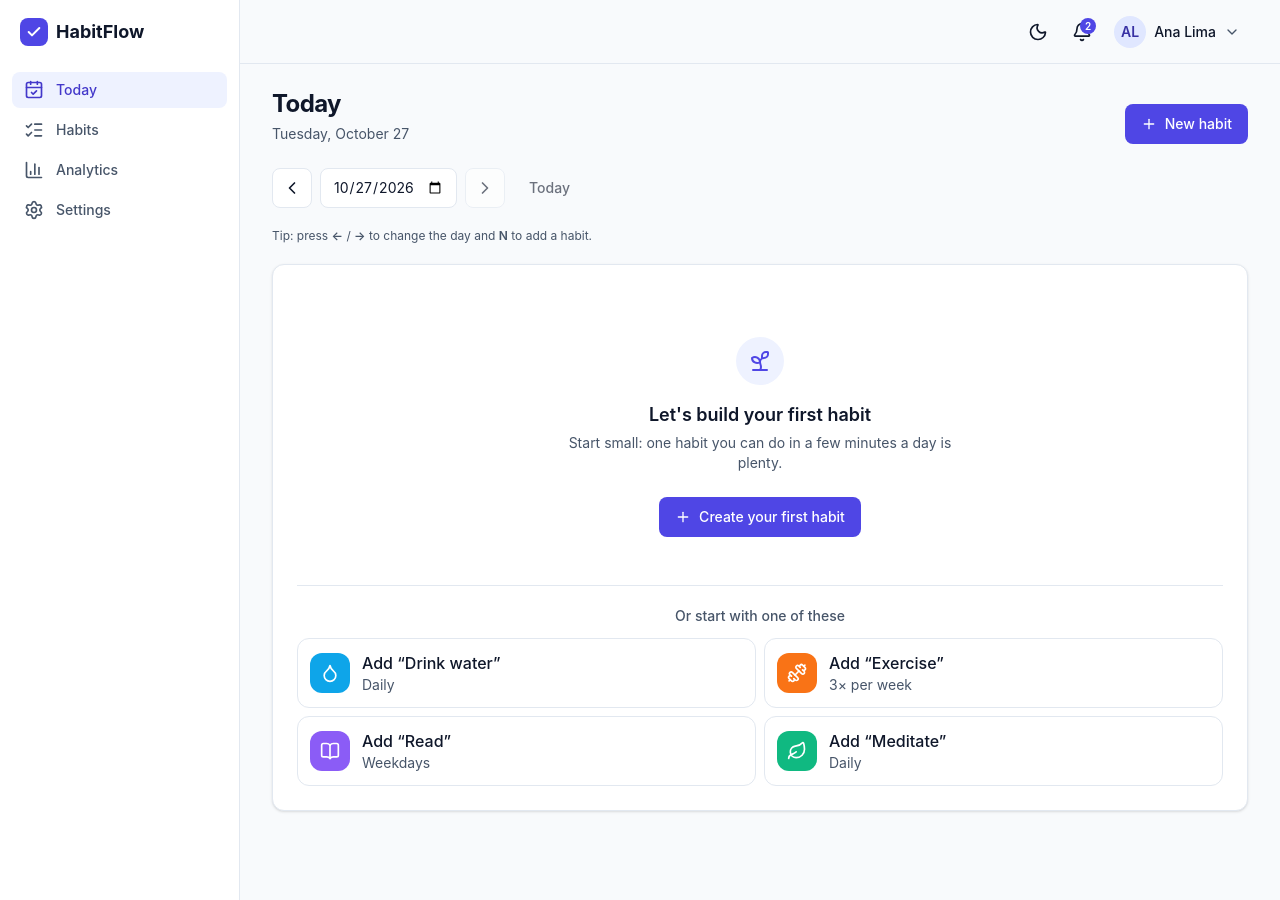
Test case: the badge updates after "Mark all read"
Click the button named "Notifications, 2 unread".
click(1082, 32)  # box top-left (1062, 12), bottom-right (1102, 52)
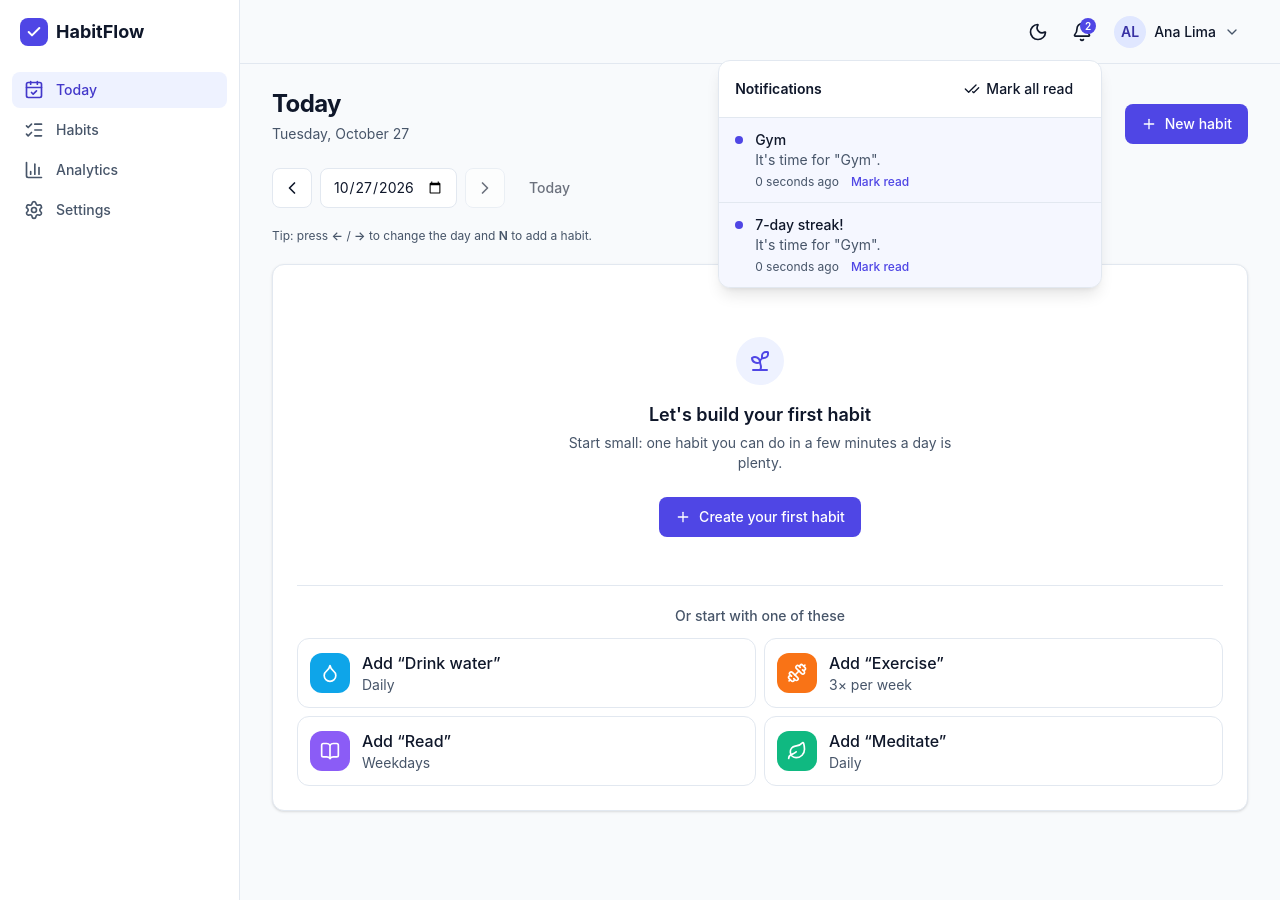
Expected: the link "7-day streak!" is shown, top-left (755, 216), bottom-right (844, 232)
Click the button "Mark all read".
click(1019, 88)  # box top-left (952, 72), bottom-right (1085, 104)
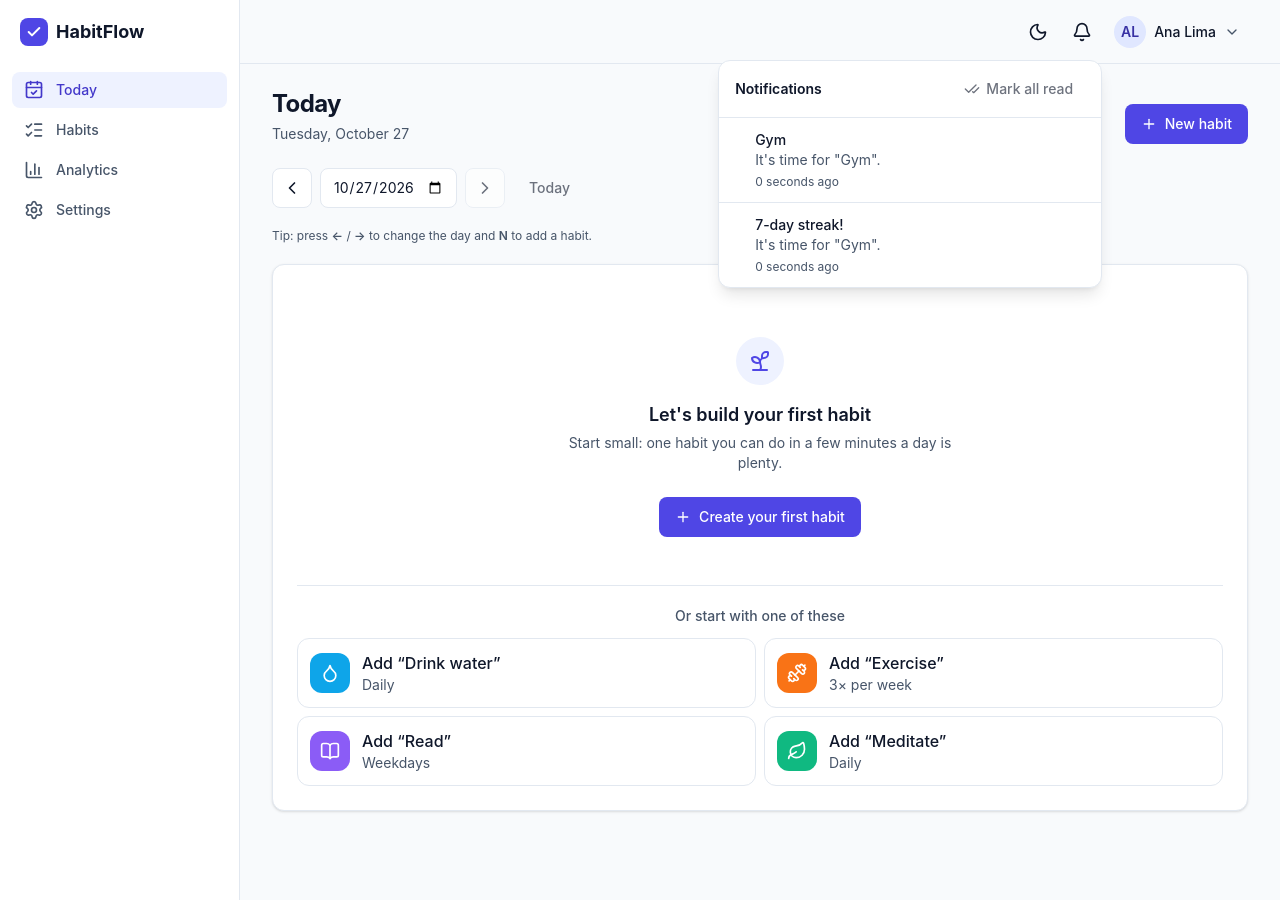
Expected: the button named "Notifications" is expanded, top-left (1062, 12), bottom-right (1102, 52)
Expected: the text with test id "unread-badge" is gone
Expected: the button "Mark all read" is disabled, top-left (952, 72), bottom-right (1085, 104)
